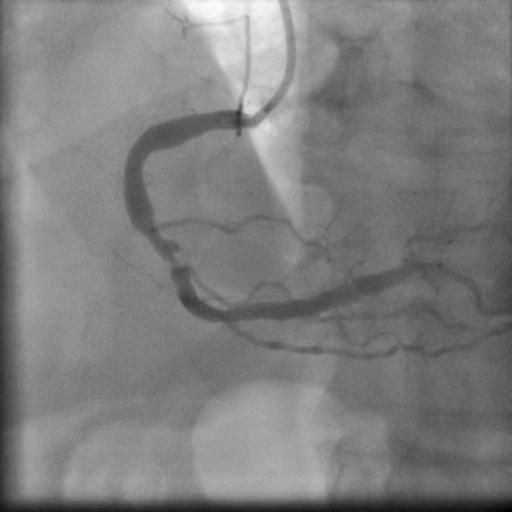Stenosis: (148, 236, 192, 278)
